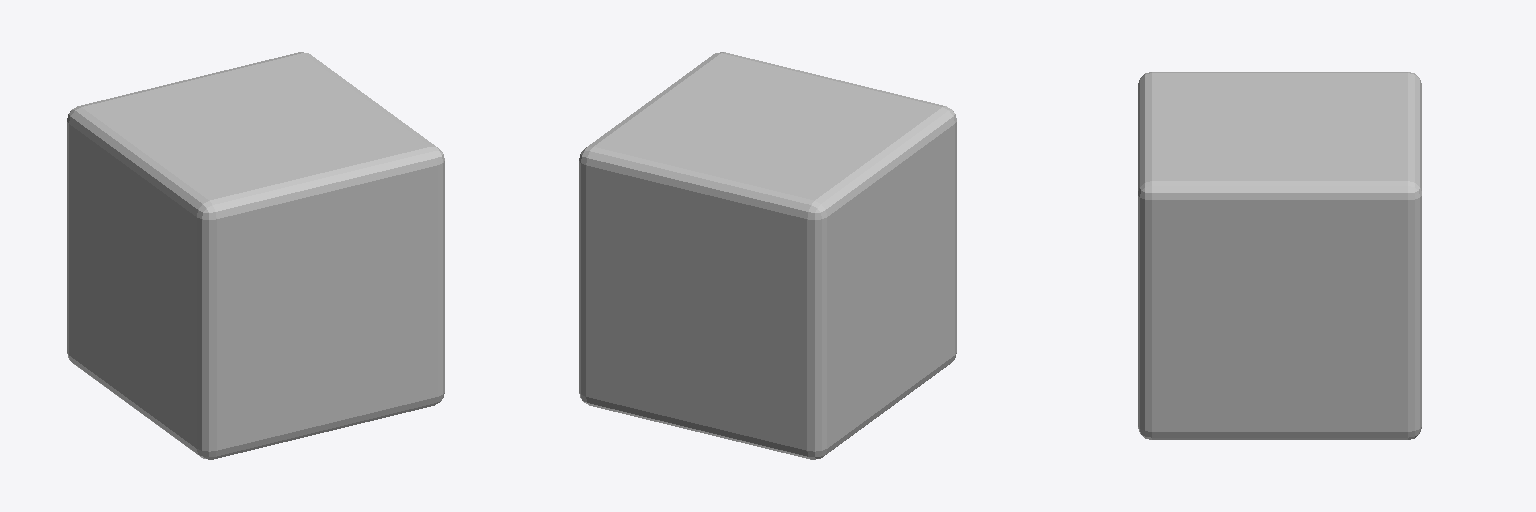
The model's file is Single Tile.obj.
3 renders of one model, left to right at view 1: azimuth 30°, elevation 25°; view 2: azimuth 150°, elevation 25°; view 3: azimuth 270°, elevation 25°, orthographic.
Visible parts, largest first — view 1: pCube112; view 2: pCube112; view 3: pCube112.
Boxes of the visible parts, box(x1,y1,x2,y2) form: pCube112: box(67, 52, 444, 459); pCube112: box(579, 52, 956, 459); pCube112: box(1138, 72, 1421, 439).
Bounding box in the file's own units: 1 × 1 × 1.